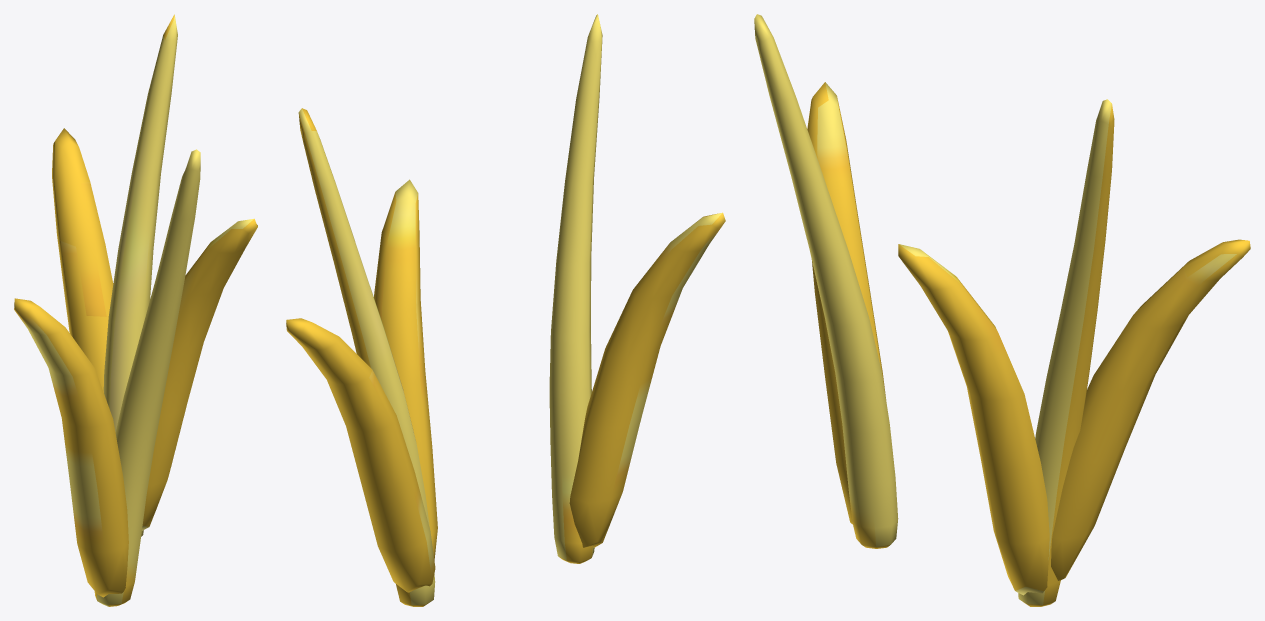
File: wheatStage1.obj
3 renders of one model, left to right at view 1: azimuth 30°, elevation 25°; view 2: azimuth 150°, elevation 25°; view 3: azimuth 270°, elevation 25°, orthographic. The views are drawn at different scales.
Visible parts, largest first — view 1: WheatStage1; view 2: WheatStage1; view 3: WheatStage1.
Part boxes in pixels (left/top/right/bottom): WheatStage1: left=14, top=14, right=257, bottom=606; WheatStage1: left=286, top=14, right=725, bottom=606; WheatStage1: left=754, top=14, right=1250, bottom=606.
Bounding box in the file's own units: 0.1746 × 0.2878 × 0.2313.
Materials: 1 (1 with a texture image).
